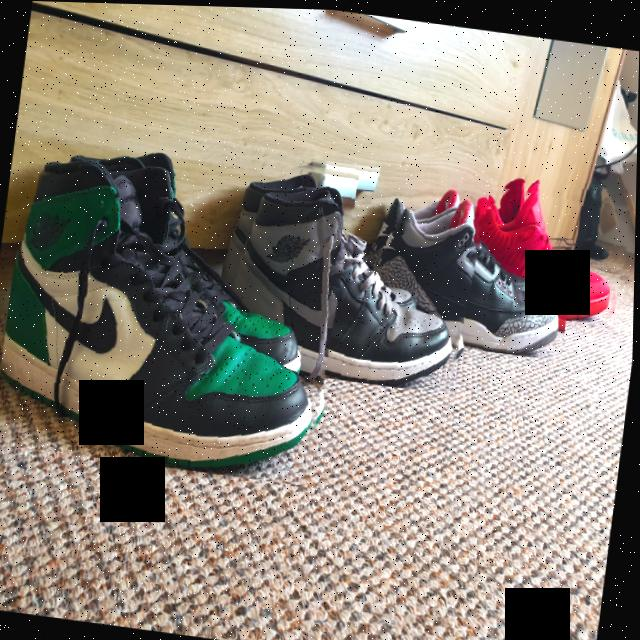shoe: (0, 114, 363, 486), (208, 141, 493, 394), (362, 163, 584, 358), (461, 165, 637, 334)
